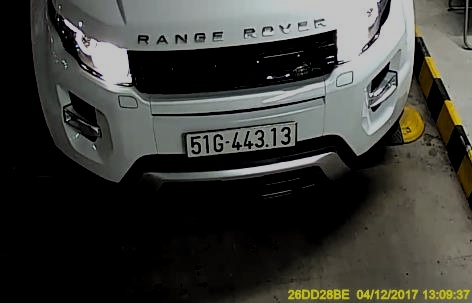plate: (182, 126, 298, 157)
